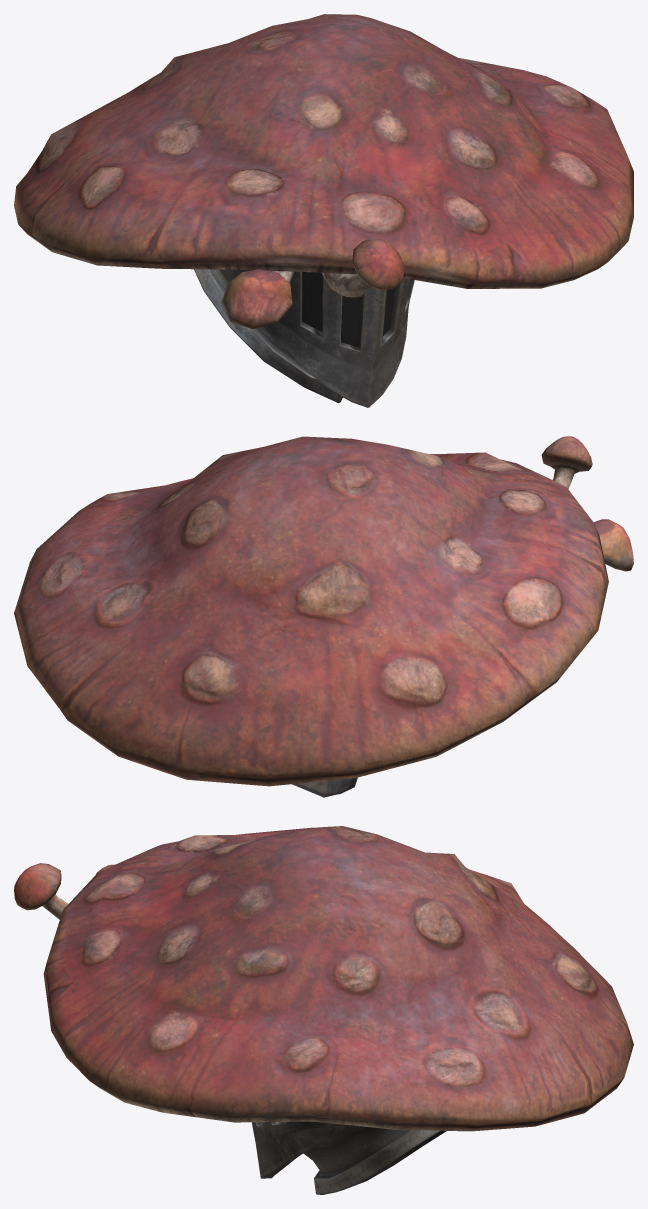
File: sm_yun_mushroom_helmet.gltf
The picture shows the model from 3 angles, top to bottom: view 1: azimuth 30°, elevation 25°; view 2: azimuth 150°, elevation 25°; view 3: azimuth 270°, elevation 25°; orthographic projection. The views are drawn at different scales.
Visible parts, largest first — view 1: sm_yun_mushroom_helmet; view 2: sm_yun_mushroom_helmet; view 3: sm_yun_mushroom_helmet.
Part boxes in pixels (x1,y1,x2,y2): sm_yun_mushroom_helmet: (14, 14, 633, 407); sm_yun_mushroom_helmet: (14, 436, 633, 797); sm_yun_mushroom_helmet: (14, 826, 633, 1194).
Size of the model in its own units: 99.15 by 64 by 104.
Materials: 1 (1 with a texture image).
